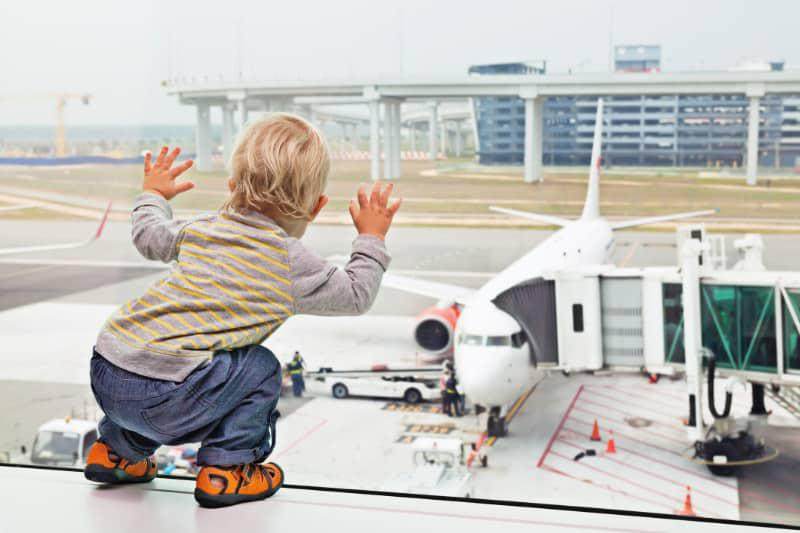child: (59, 108, 418, 515)
